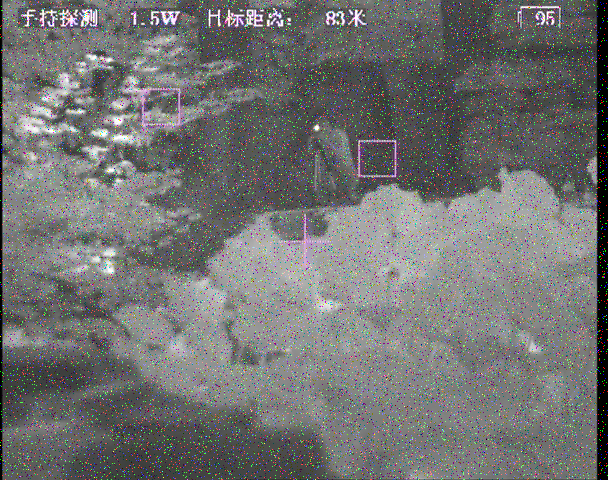my: (312, 121, 322, 132)
